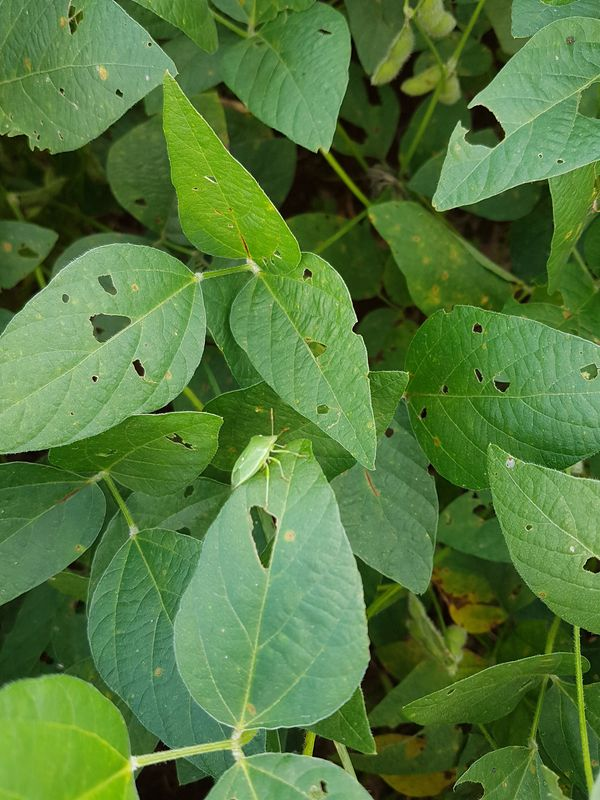Nezara_viridula_adulto: (220, 405, 318, 511)
